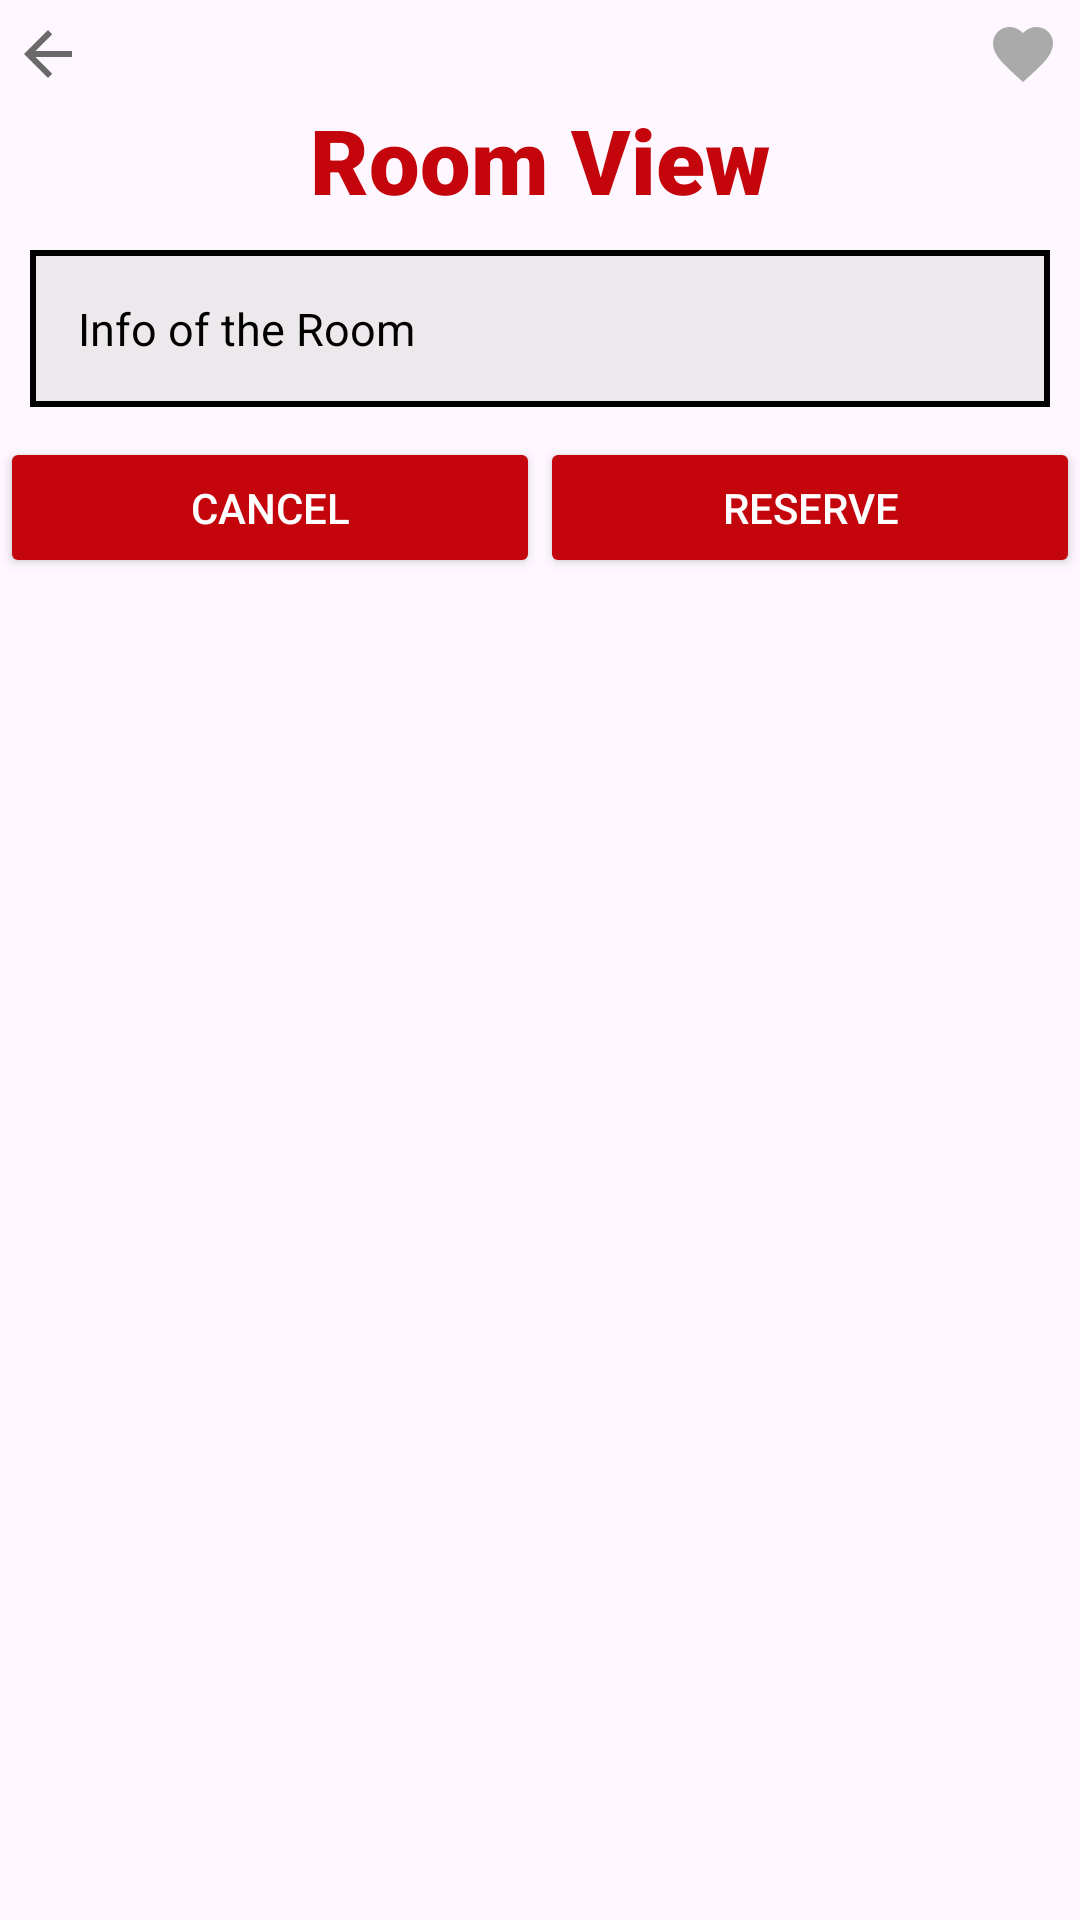

Screen size 1080 × 1920. Icon name, then its center in pixels as (x=x, y=y):
back arrow: (x=48, y=54)
favorites: (x=1023, y=54)
